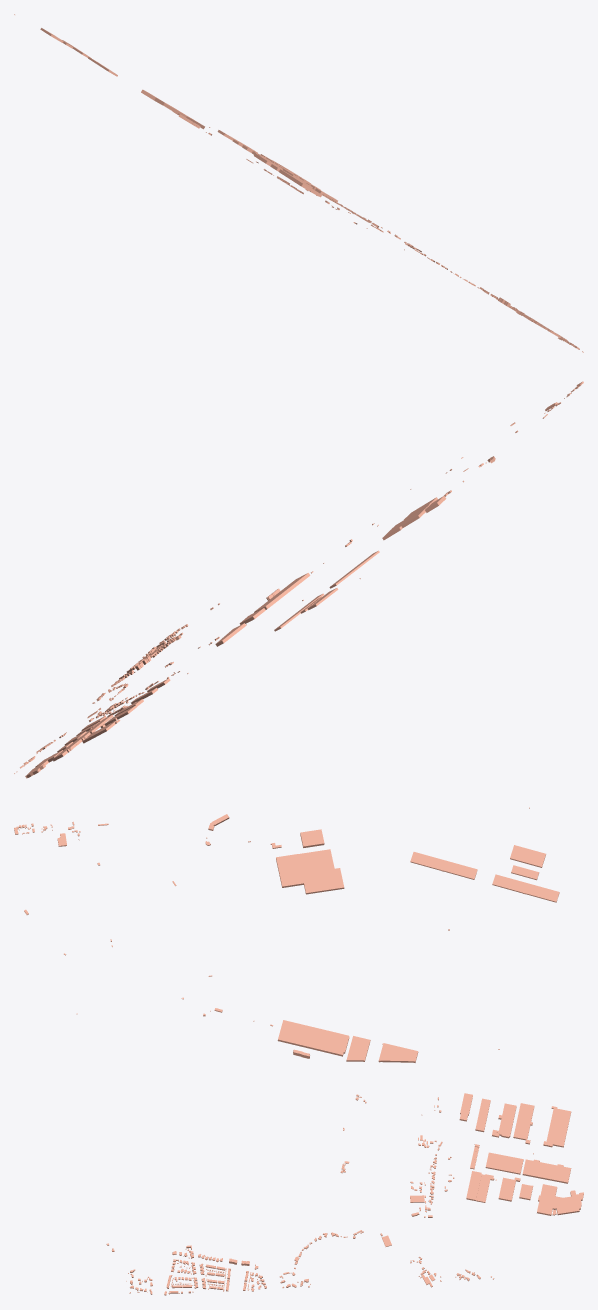
3 renders of one model, top to bottom at view 1: azimuth 30°, elevation 25°; view 2: azimuth 150°, elevation 25°; view 3: azimuth 270°, elevation 25°, orthographic. The views are drawn at different scales.
Size of the model in its own units: 2027 by 1507 by 2573.
